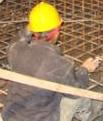boots: (0, 48, 10, 91), (0, 38, 10, 80)
gloves: (81, 57, 100, 73), (0, 0, 7, 8)
hard-hat: (27, 1, 62, 33)
